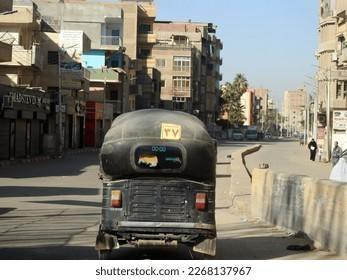keke: (93, 105, 224, 259)
